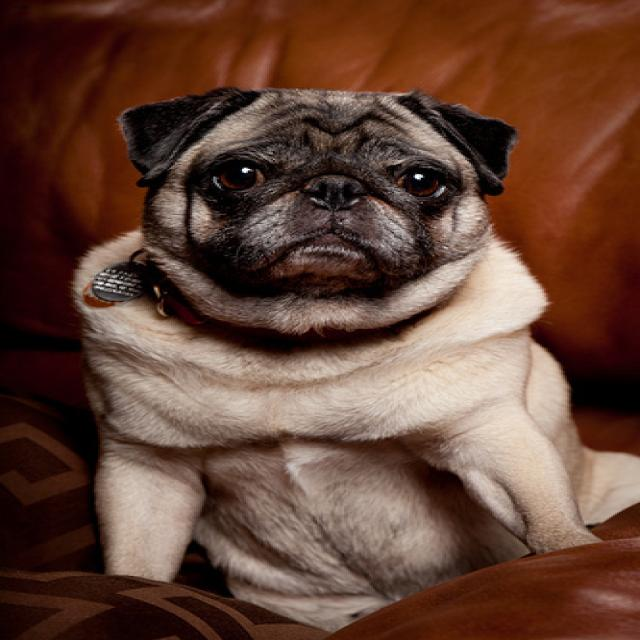dog-pug: (60, 74, 636, 636)
